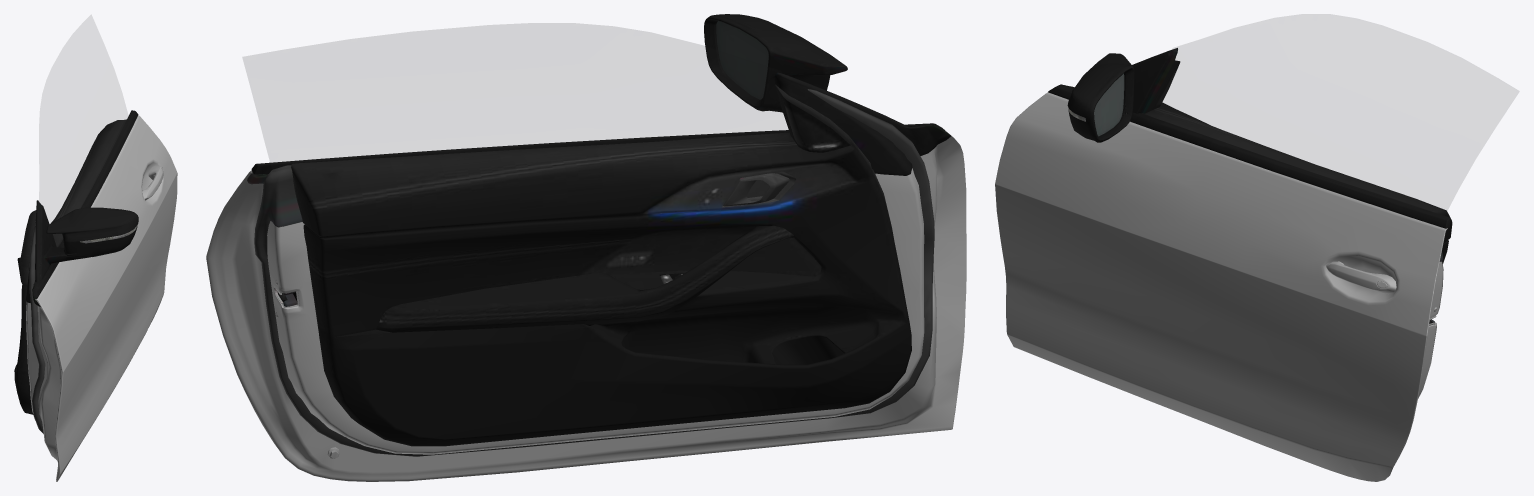
3 views of the same model, side by side, from view 1: azimuth 30°, elevation 25°; view 2: azimuth 150°, elevation 25°; view 3: azimuth 270°, elevation 25° (orthographic). The views are drawn at different scales.
Visible parts, largest first — view 1: m4:left_door_Mesh_2_car_body_m4:car_body1_0_417, m4:left_door_Mesh_2_car_body_m4:car_glass1_0_418, m4:left_door_Mesh_2_car_body_m4:car_plast1_0_419, m4:left_door_Mesh_2_car_body_m4:car_interior1_0_420; view 2: m4:left_door_Mesh_2_car_body_m4:car_interior1_0_420, m4:left_door_Mesh_2_car_body_m4:car_glass1_0_418, m4:left_door_Mesh_2_car_body_m4:car_body1_0_417, m4:left_door_Mesh_2_car_body_m4:car_plast1_0_419; view 3: m4:left_door_Mesh_2_car_body_m4:car_body1_0_417, m4:left_door_Mesh_2_car_body_m4:car_glass1_0_418, m4:left_door_Mesh_2_car_body_m4:car_plast1_0_419, m4:left_door_Mesh_2_car_body_m4:car_interior1_0_420.
Part boxes in pixels (x1,y1,x2,y2): m4:left_door_Mesh_2_car_body_m4:car_body1_0_417: (26, 115, 177, 481); m4:left_door_Mesh_2_car_body_m4:car_glass1_0_418: (39, 15, 127, 245); m4:left_door_Mesh_2_car_body_m4:car_plast1_0_419: (26, 110, 138, 433); m4:left_door_Mesh_2_car_body_m4:car_interior1_0_420: (14, 119, 126, 414); m4:left_door_Mesh_2_car_body_m4:car_interior1_0_420: (291, 84, 911, 446); m4:left_door_Mesh_2_car_body_m4:car_glass1_0_418: (243, 23, 788, 171); m4:left_door_Mesh_2_car_body_m4:car_body1_0_417: (206, 131, 966, 481); m4:left_door_Mesh_2_car_body_m4:car_plast1_0_419: (247, 14, 950, 458); m4:left_door_Mesh_2_car_body_m4:car_body1_0_417: (995, 92, 1447, 481); m4:left_door_Mesh_2_car_body_m4:car_glass1_0_418: (1143, 14, 1518, 214); m4:left_door_Mesh_2_car_body_m4:car_plast1_0_419: (1048, 48, 1450, 325); m4:left_door_Mesh_2_car_body_m4:car_interior1_0_420: (1141, 60, 1452, 264).
Bounding box in the file's own units: 0.0104 × 0.0104 × 0.012.
4 materials, 3 textured.
